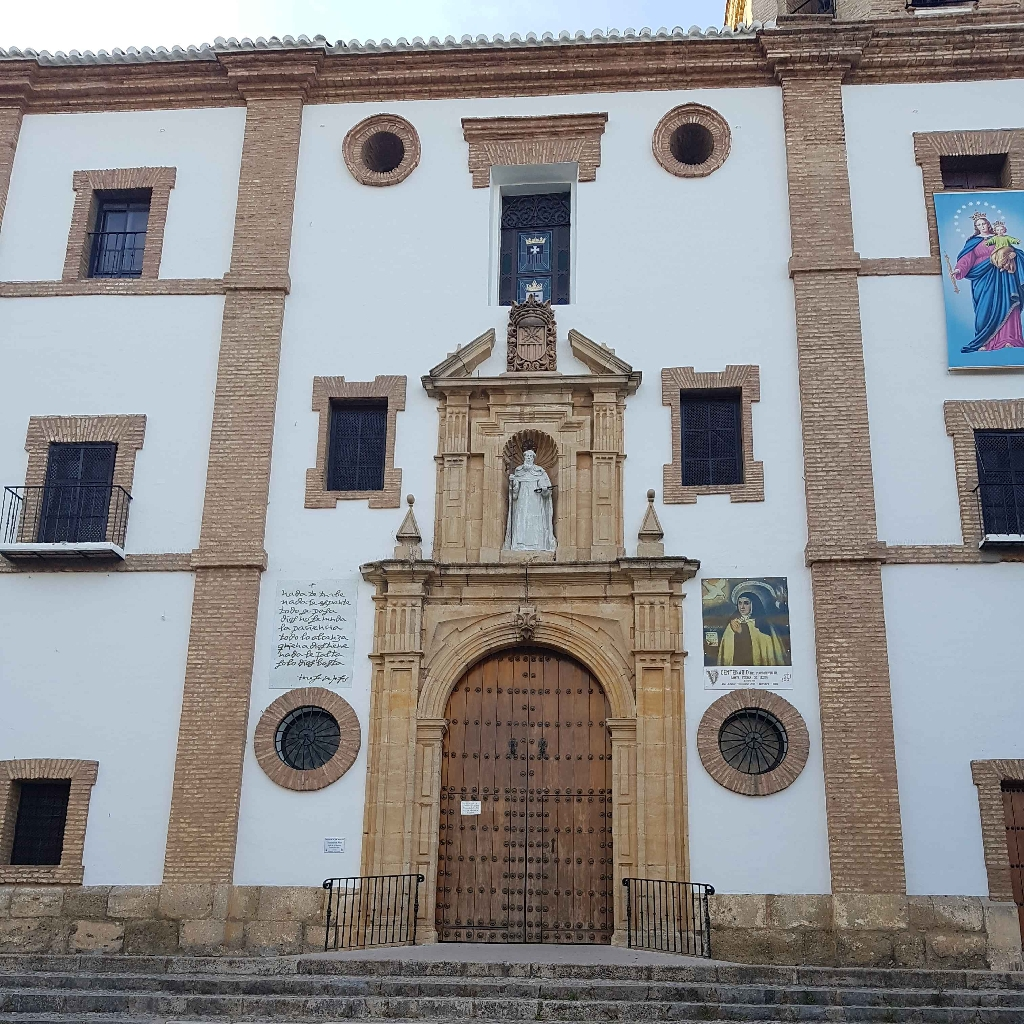arco-medio-punto: (423, 621, 628, 748)
fronton-partido: (418, 324, 641, 391)
